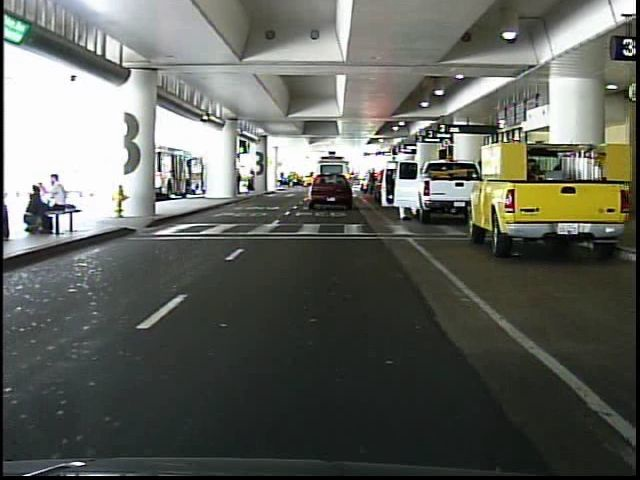person: (247, 167, 258, 194)
